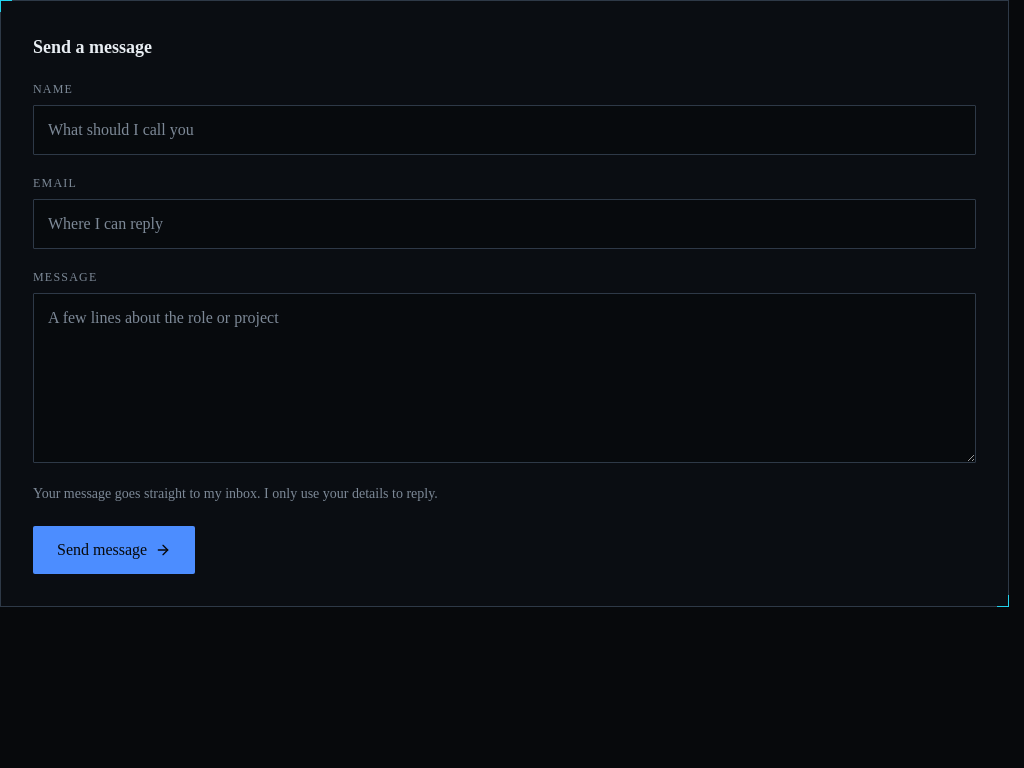
Test case: ContactForm › announces rate limiting
The image size is (1024, 768).
Type "Anna" into the field labelled "Name" at (504, 130), box [33,105,976,155]
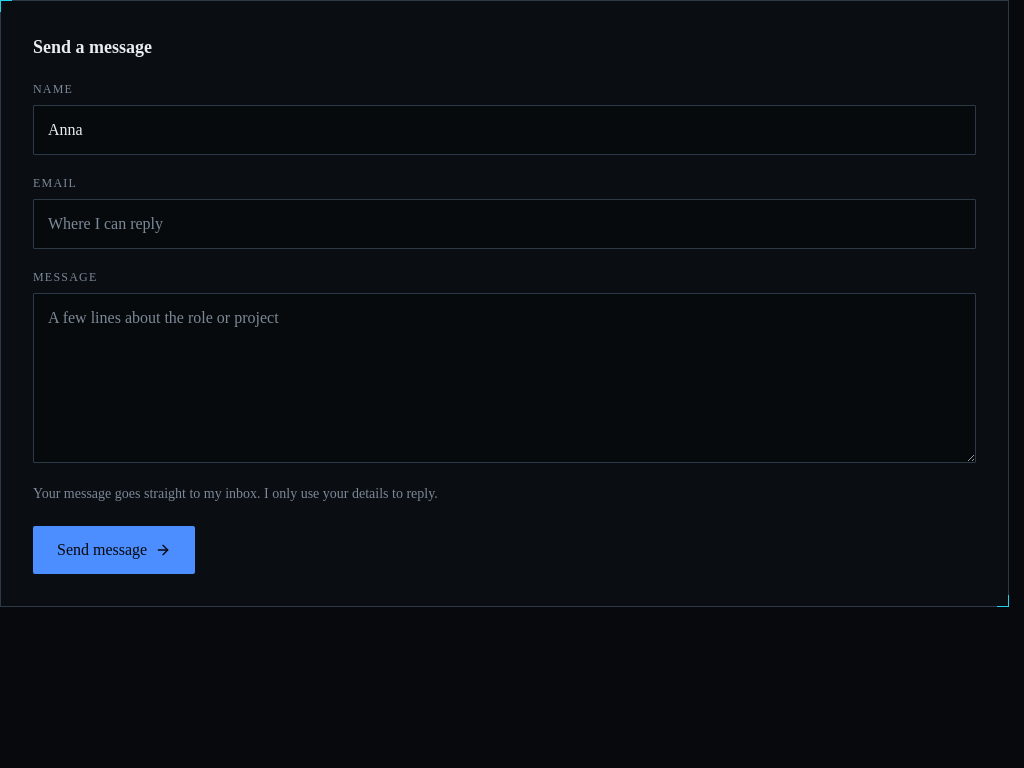
Type "anna@firma.pl" into the field labelled "Email" at (504, 224), box [33,199,976,249]
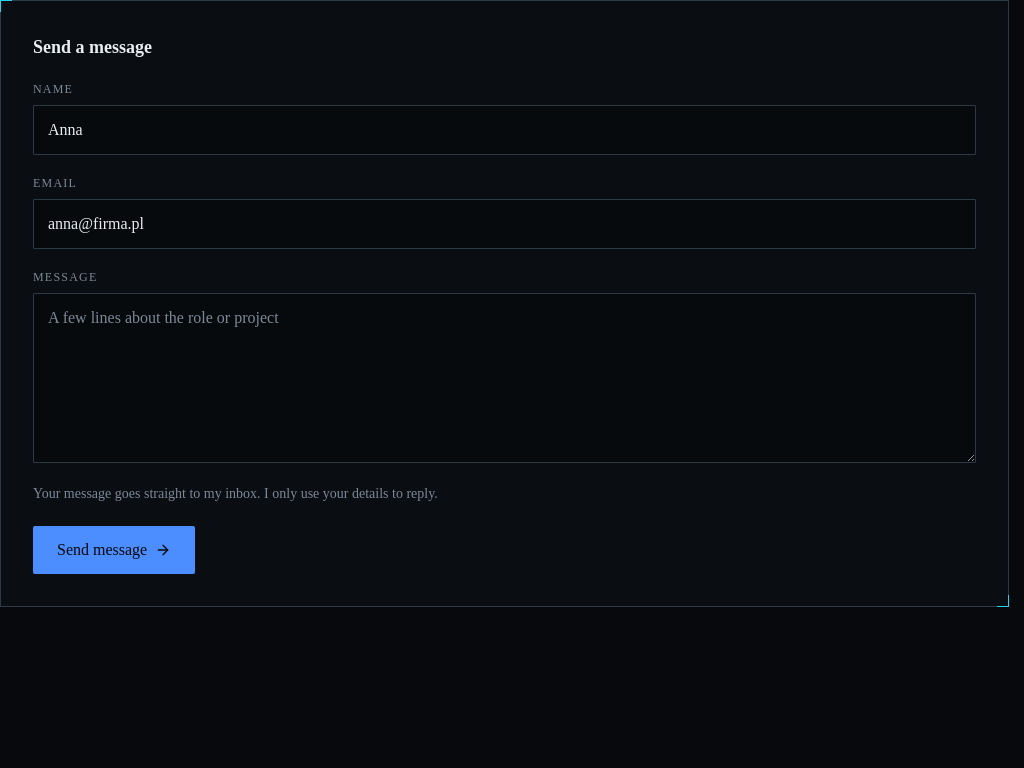
Type "Szukamy inżyniera z kontekstem produkcyjnym." into the text box labelled "Message" at (504, 378), box [33,293,976,463]
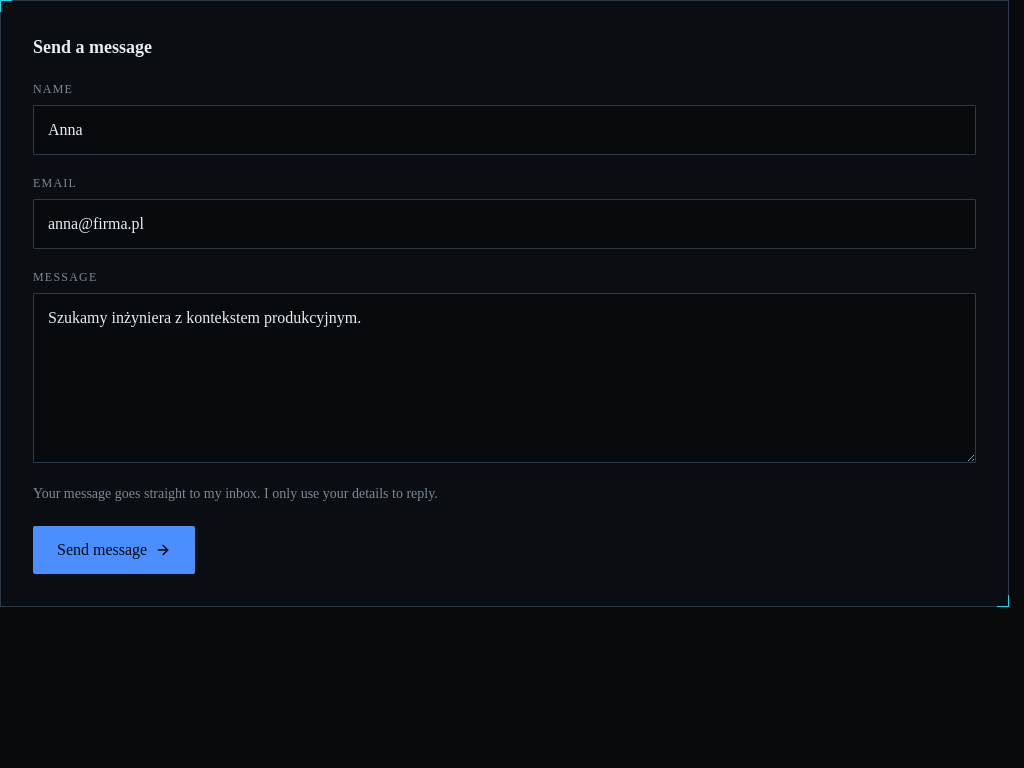
Submit the form "Send a message"
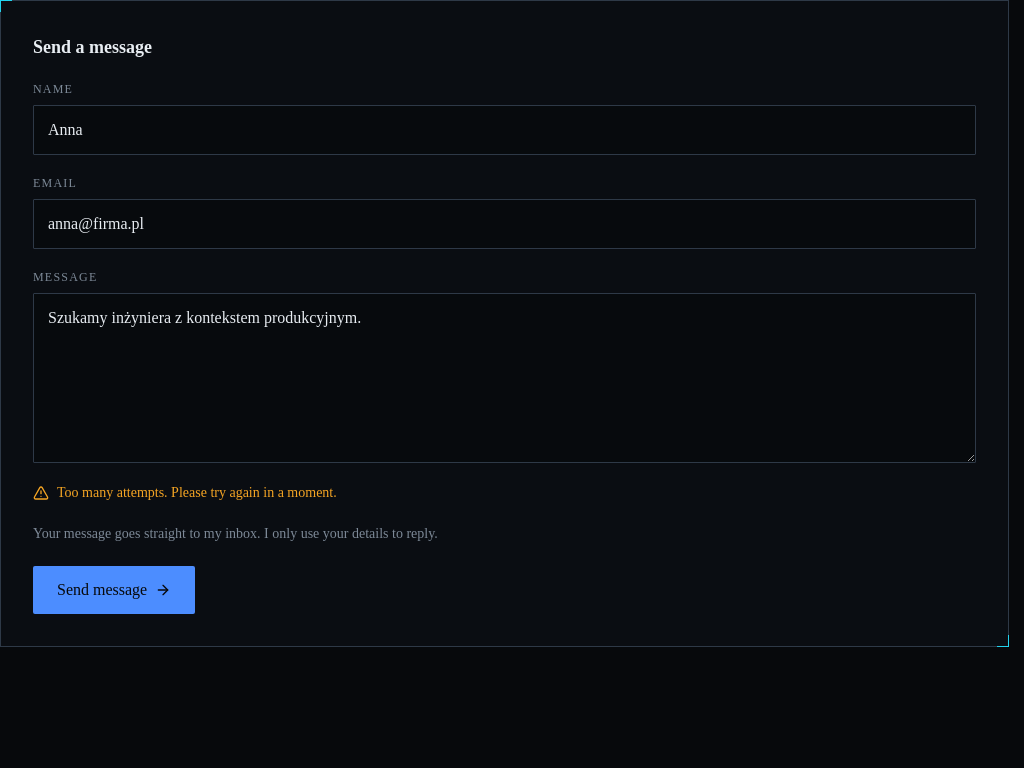
expect the message reads "Too many attempts. Please try again in a moment.": met, box [57,485,337,500]
